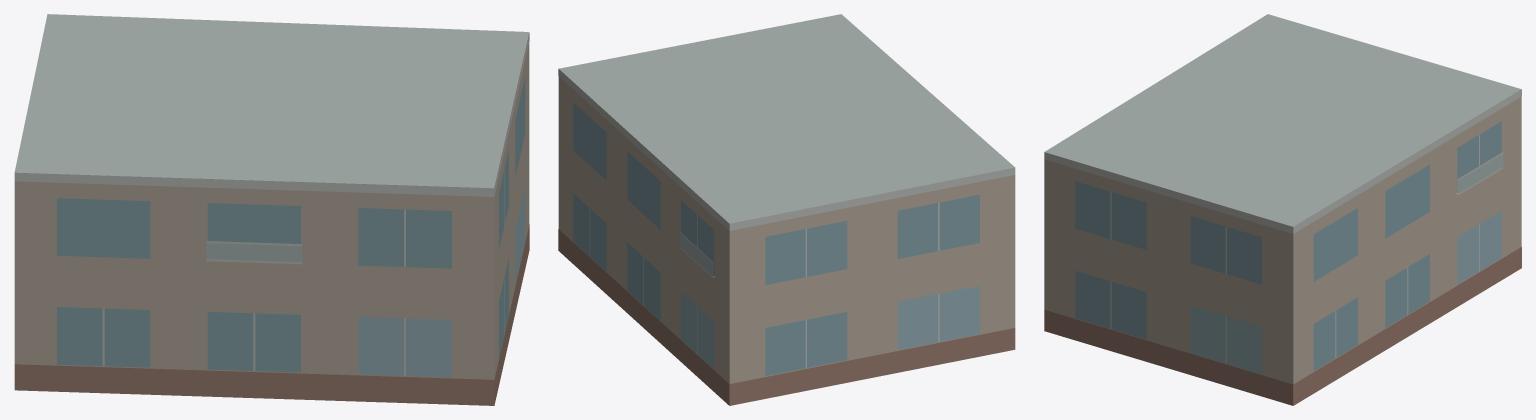
The model's file is survey-upis-32714481.glb.
3 views of the same model, side by side, from view 1: azimuth 30°, elevation 25°; view 2: azimuth 150°, elevation 25°; view 3: azimuth 270°, elevation 25° (orthographic). The views are drawn at different scales.
Parts seen in each view (by area): view 1: survey-upis-32714481.tmp; view 2: survey-upis-32714481.tmp; view 3: survey-upis-32714481.tmp.
Part boxes in pixels (box(x1,y1,x2,y2)): survey-upis-32714481.tmp: box(14, 14, 529, 405); survey-upis-32714481.tmp: box(558, 14, 1015, 405); survey-upis-32714481.tmp: box(1044, 14, 1521, 405).
Size of the model in its own units: 15.57 by 6.1 by 14.76.
